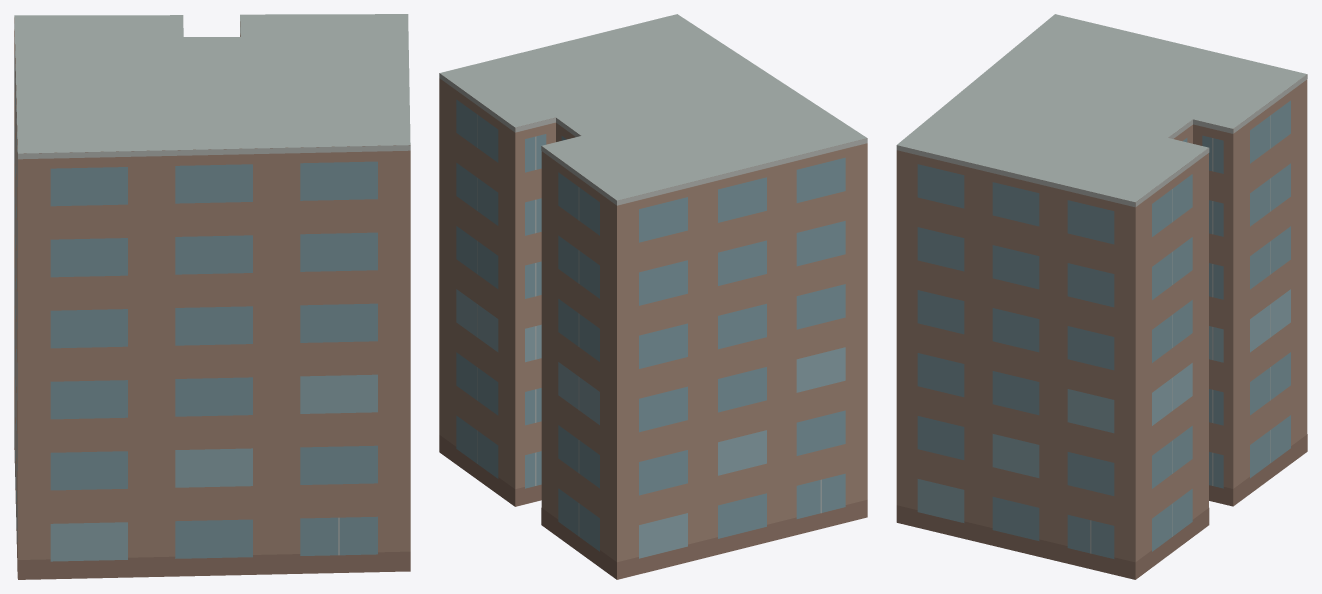
The model's file is survey-upis-33021401.glb.
3 renders of one model, left to right at view 1: azimuth 30°, elevation 25°; view 2: azimuth 150°, elevation 25°; view 3: azimuth 270°, elevation 25°, orthographic. The views are drawn at different scales.
Visible parts, largest first — view 1: survey-upis-33021401.tmp; view 2: survey-upis-33021401.tmp; view 3: survey-upis-33021401.tmp.
Boxes of the visible parts, left/top/right/bottom form: survey-upis-33021401.tmp: left=14, top=14, right=410, bottom=579; survey-upis-33021401.tmp: left=439, top=14, right=867, bottom=579; survey-upis-33021401.tmp: left=896, top=14, right=1307, bottom=579.
Bounding box in the file's own units: 19.59 × 18.3 × 18.06.
